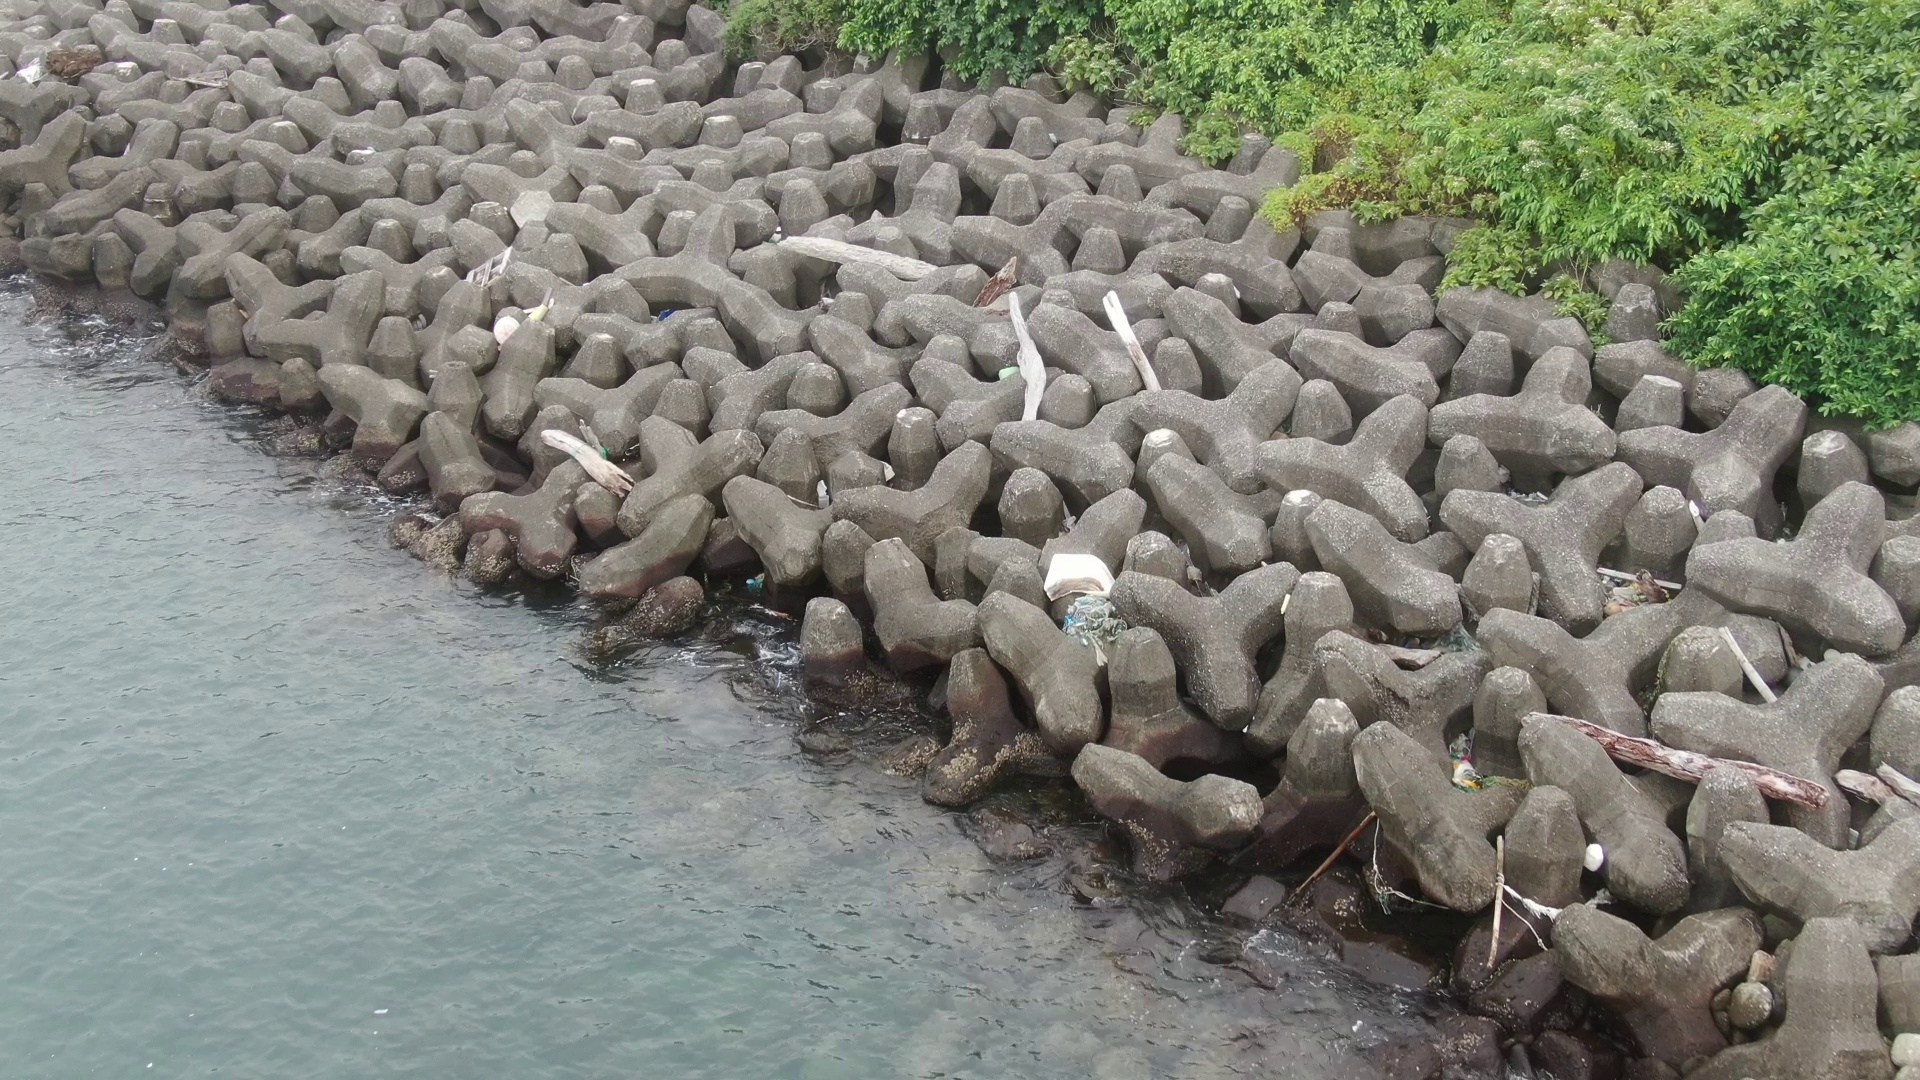garbage: (1034, 543, 1129, 665), (484, 291, 560, 349), (1441, 724, 1487, 799), (574, 410, 621, 465), (462, 247, 520, 287), (645, 302, 707, 334), (1578, 837, 1605, 881)
